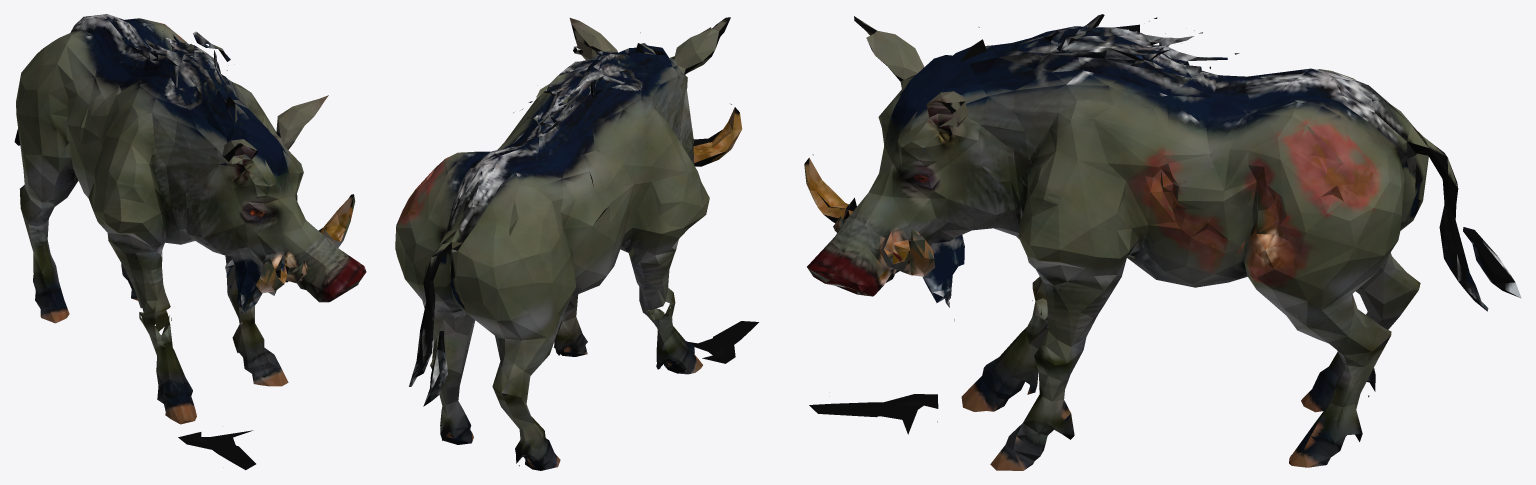
File: grave_boar.gltf
The picture shows the model from 3 angles, left to right: view 1: azimuth 30°, elevation 25°; view 2: azimuth 150°, elevation 25°; view 3: azimuth 270°, elevation 25°; orthographic projection. The views are drawn at different scales.
Visible parts, largest first — view 1: grave_boar; view 2: grave_boar; view 3: grave_boar.
Boxes of the visible parts, x1,y1,x2,y2 form: grave_boar: (14, 14, 366, 470); grave_boar: (395, 17, 758, 470); grave_boar: (804, 14, 1521, 470).
Size of the model in its own units: 0.3987 by 0.6643 by 1.
1 material, 1 textured.
